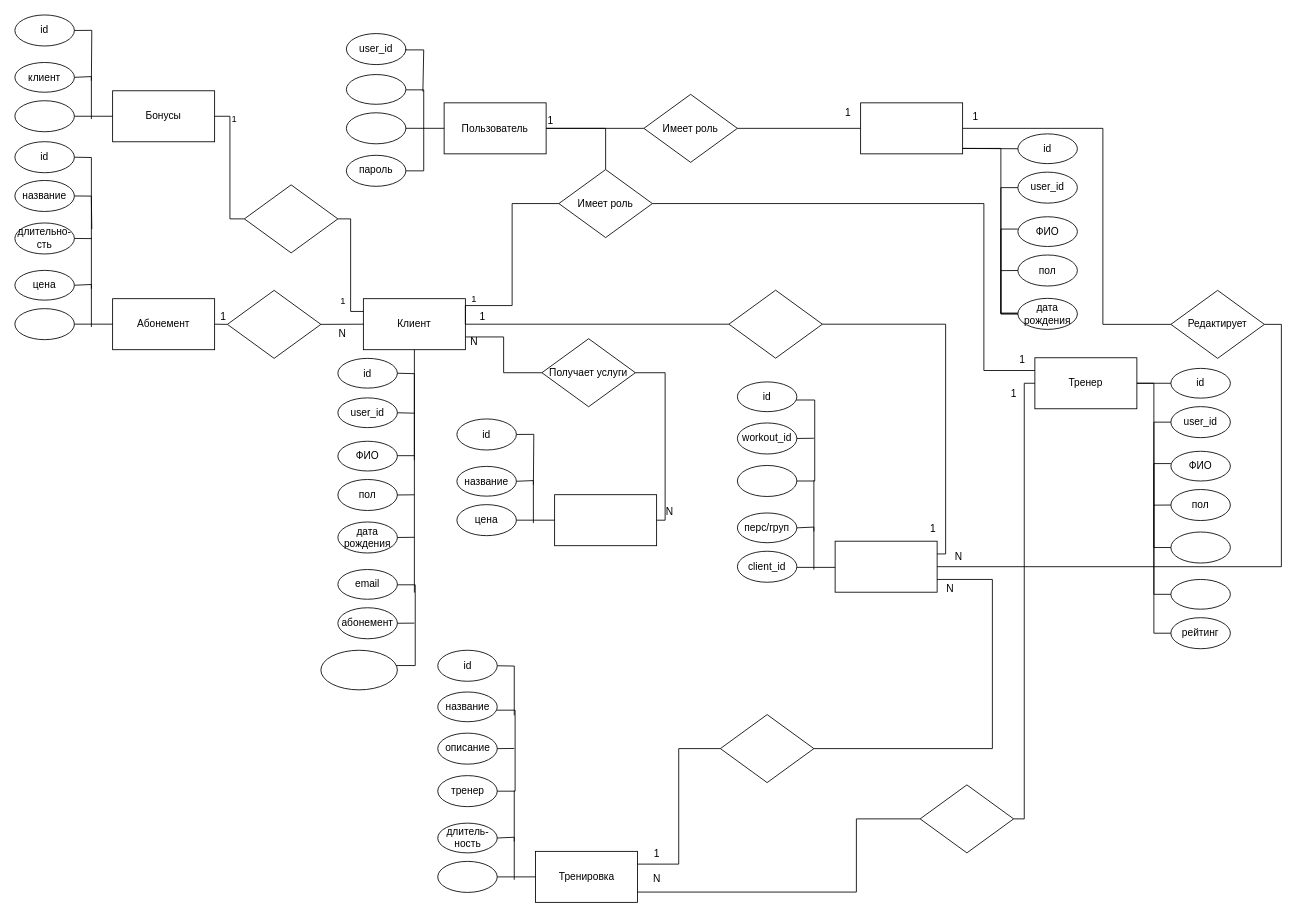
The diagram is 1297 pixels wide and 917 high, and some of its shapes have lost their labels. Here are the shapes that lost their labels. From the top down, the box of each, then its label:
(346, 74, 406, 104): роль
(14, 100, 74, 132): кол-во бонусов
(346, 112, 406, 144): почта
(860, 102, 963, 154): Администратор
(244, 184, 338, 253): Смотрит кол-во своих бонусов
(14, 308, 74, 340): кол-во дней заморозки
(227, 290, 321, 358): Занимается по абонементу
(728, 289, 822, 358): Может записаться
(737, 465, 797, 496): дата и время
(554, 494, 657, 546): Услуги и товары
(834, 540, 937, 592): Расписание
(1170, 531, 1230, 563): специали- зация
(1170, 579, 1230, 609): стаж
(320, 649, 397, 690): дата окончания абонемента
(720, 714, 814, 783): Включает
(919, 784, 1014, 853): Ведет
(437, 861, 497, 892): сложность
